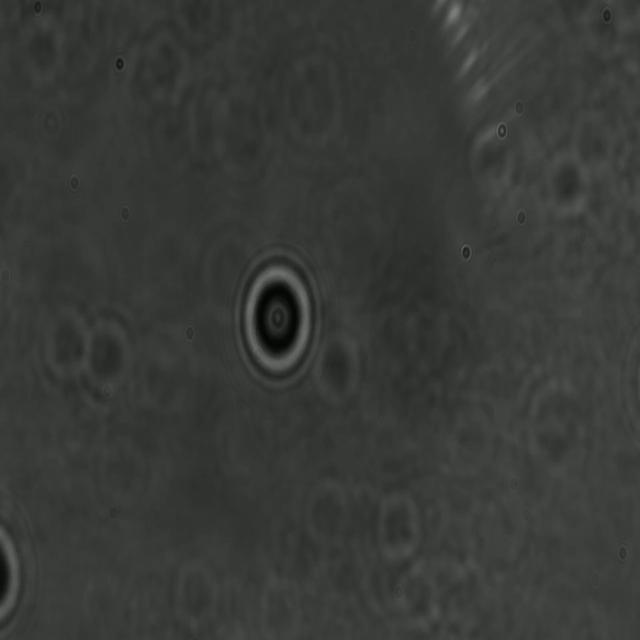LCELL: (236, 250, 325, 392)
